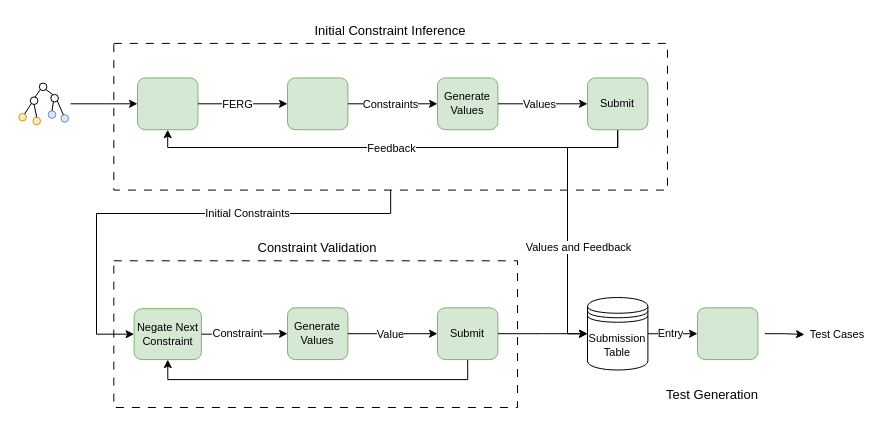
This 885x425 diagram has some shape labels left out. Here are the shapes that lost their labels. From the top down, the centre of each, then its label:
At [167,103]: "Create FERG".
At [317,103]: "Generate Constraints".
At [727,333]: "Generate Test Case".
